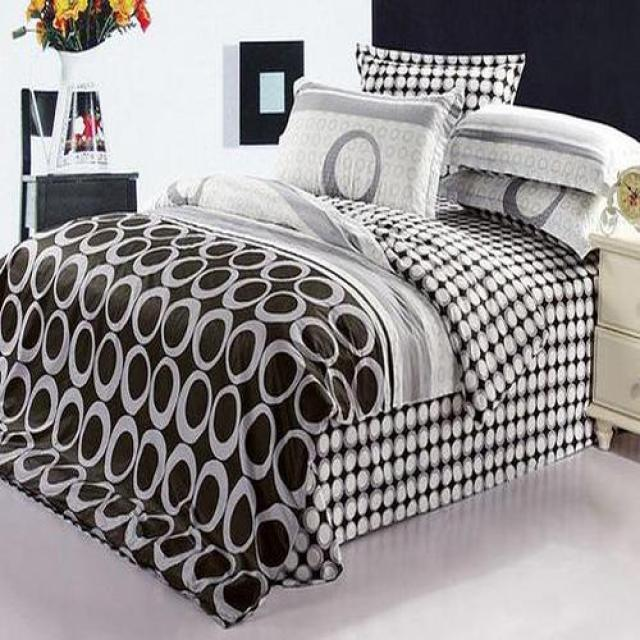bed: (0, 45, 640, 627)
